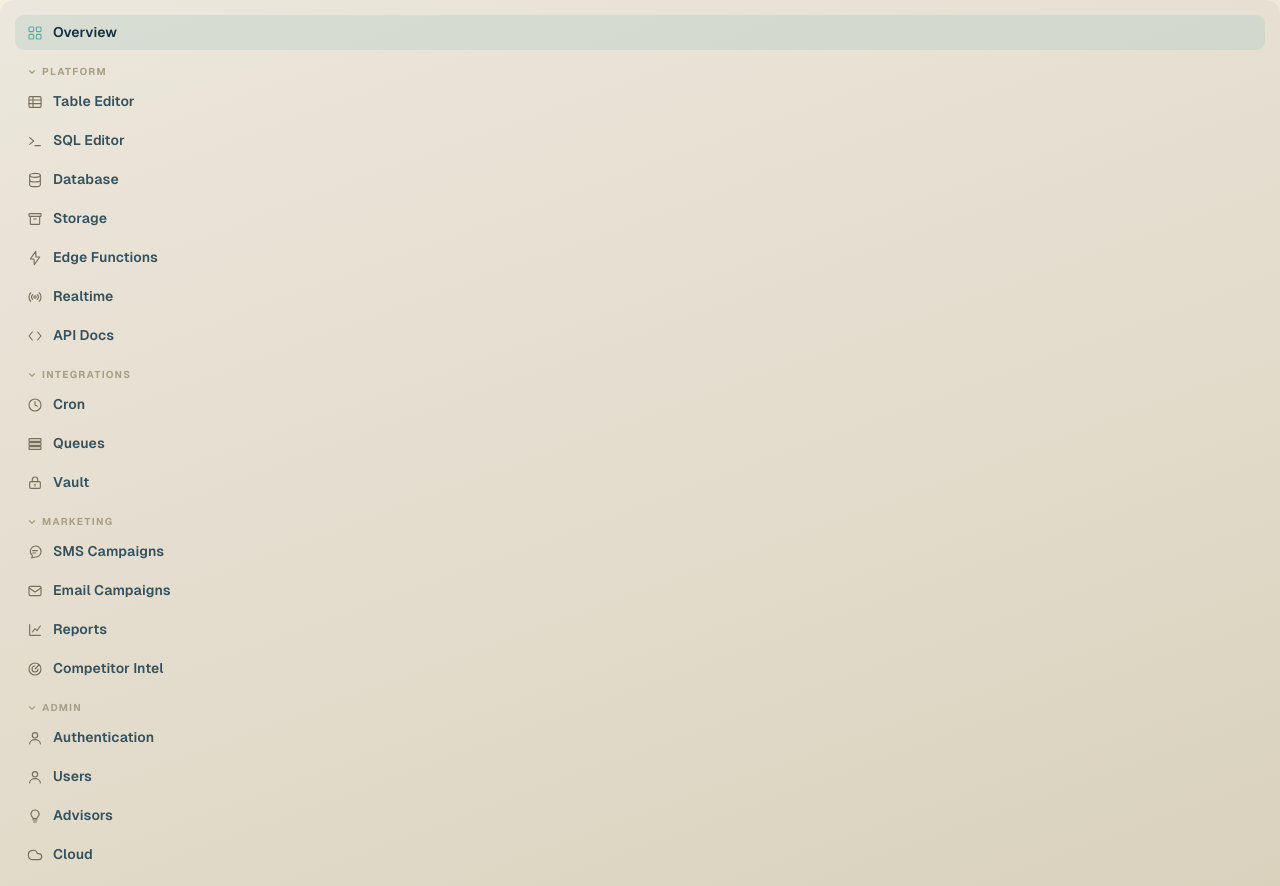
Scenario: Nav — collapsible groups › collapsing one group leaves the others expanded
Click the button "Admin" at (62, 708), box [15, 702, 1265, 720]
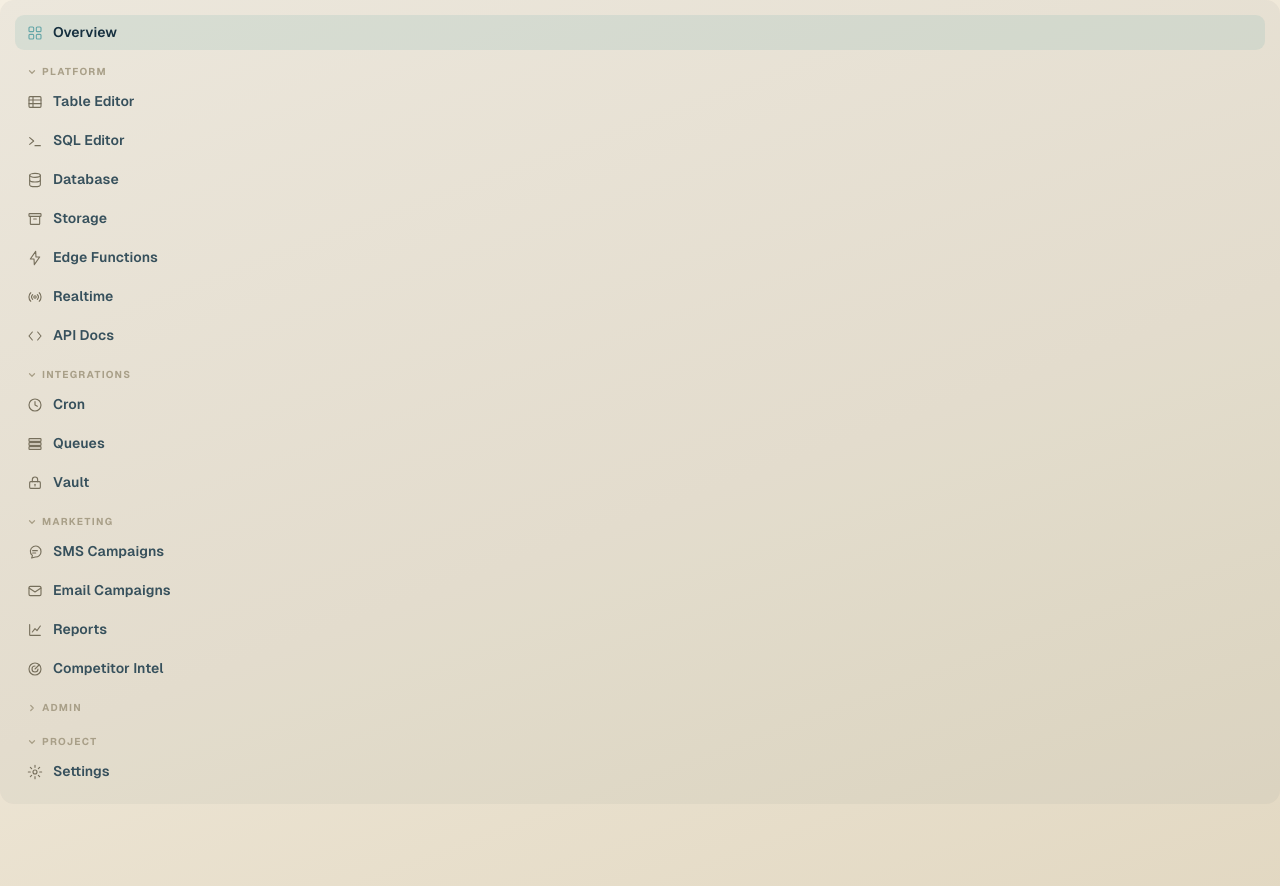
Check: the link "SMS Campaigns" is shown, box [27, 543, 164, 560]
Check: the link "Authentication" is gone
